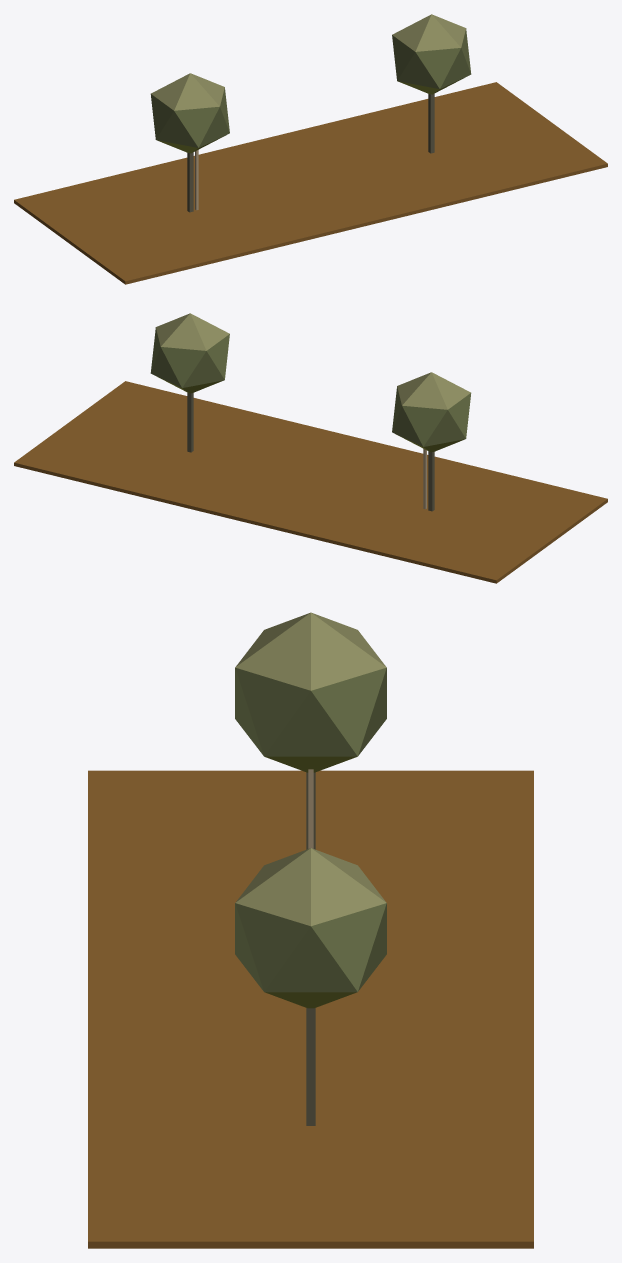
Rendered from SM_Naranjos_v1_Jovenes_LOD0.fbx.
3 views of the same model, one above another, from view 1: azimuth 30°, elevation 25°; view 2: azimuth 150°, elevation 25°; view 3: azimuth 270°, elevation 25° (orthographic). The views are drawn at different scales.
Visible parts, largest first — view 1: SM_viveres_nules_v1_LOD0; view 2: SM_viveres_nules_v1_LOD0; view 3: SM_viveres_nules_v1_LOD0.
Boxes of the visible parts, bbox=[...] form: SM_viveres_nules_v1_LOD0: bbox=[14, 14, 607, 284]; SM_viveres_nules_v1_LOD0: bbox=[14, 313, 607, 583]; SM_viveres_nules_v1_LOD0: bbox=[88, 612, 533, 1248].
Size of the model in its own units: 6 by 1.68 by 2.4.
